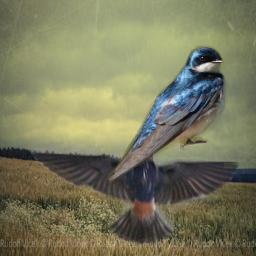Swallow: (24, 140, 243, 246), (108, 43, 229, 185)
